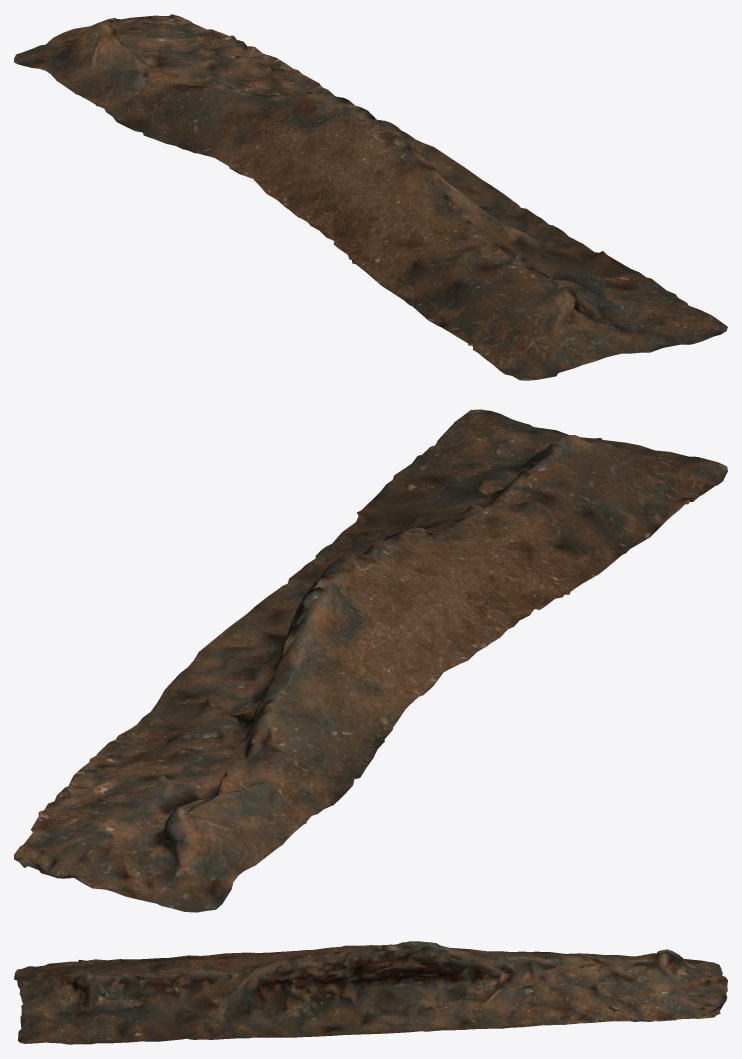
3 renders of one model, top to bottom at view 1: azimuth 30°, elevation 25°; view 2: azimuth 150°, elevation 25°; view 3: azimuth 270°, elevation 25°, orthographic. The views are drawn at different scales.
Visible parts, largest first — view 1: single_root; view 2: single_root; view 3: single_root.
Part boxes in pixels (box(x1,y1,x2,y2)): single_root: box(14, 14, 727, 380); single_root: box(14, 409, 727, 912); single_root: box(14, 941, 727, 1044).
Size of the model in its own units: 0.5552 by 0.1769 by 1.84.
Materials: 1 (1 with a texture image).
